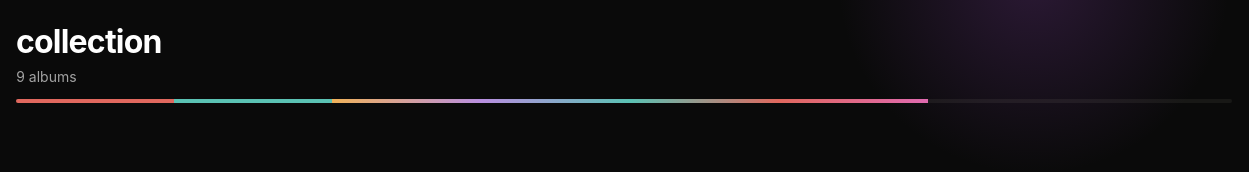
Test: CollectionMasthead mood band › spells the rule out under the band on a tap, for touch screens where a tooltip never shows
The width and height of the screenshot is (1249, 172).
Later steps or results of the test are not shown.
Click the button named "moods: intense 13%, calm 13%, a mix of moods 49%" at (624, 101), box [16,79,1232,123]
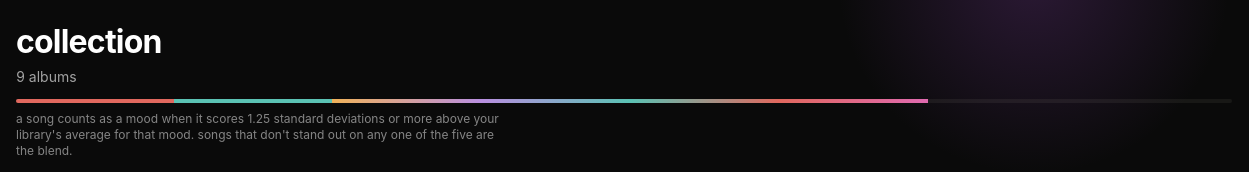
Now the button named "moods: intense 13%, calm 13%, a mix of moods 49%" is expanded, box [16,79,1232,123]
